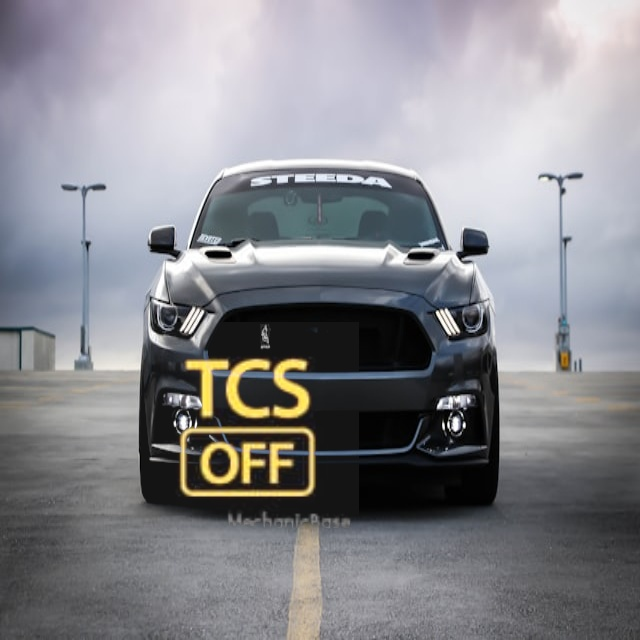symbol: (141, 322, 359, 540)
